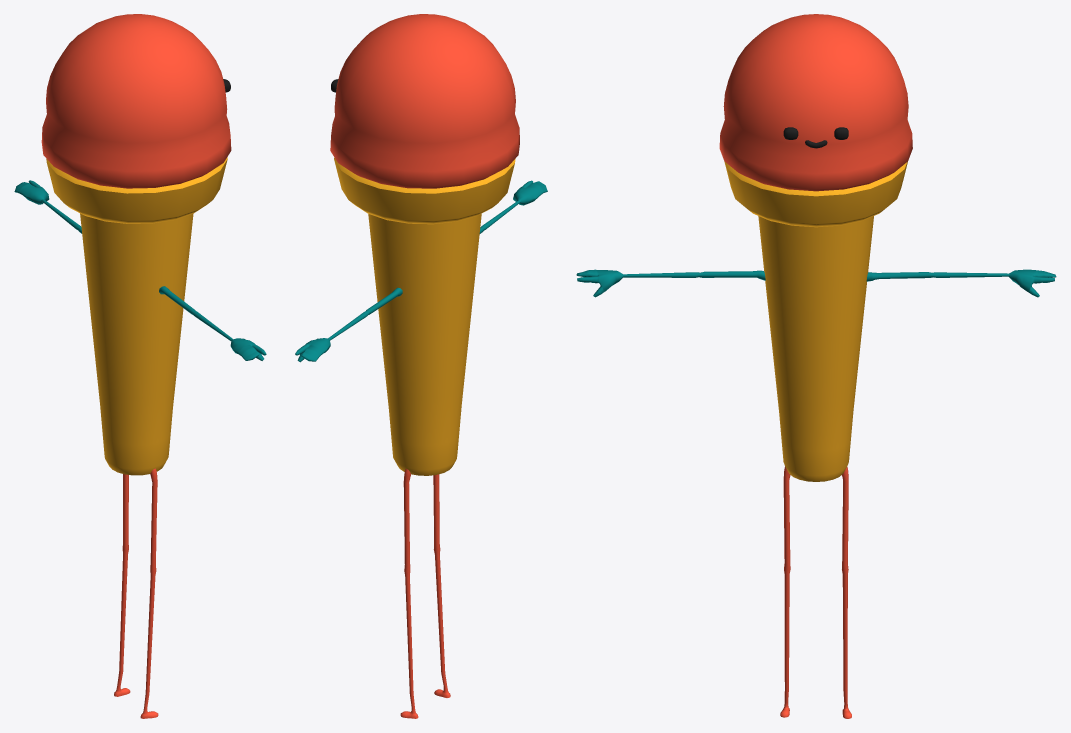
The model's file is scene_Eial6IPNKC.glb.
3 views of the same model, side by side, from view 1: azimuth 30°, elevation 25°; view 2: azimuth 150°, elevation 25°; view 3: azimuth 270°, elevation 25° (orthographic).
Visible parts, largest first — view 1: mesh_char_094; view 2: mesh_char_094; view 3: mesh_char_094.
Part boxes in pixels (left/top/right/bottom): mesh_char_094: left=14, top=14, right=266, bottom=718; mesh_char_094: left=295, top=14, right=547, bottom=718; mesh_char_094: left=576, top=14, right=1056, bottom=718.
Size of the model in its own units: 1.42 by 5.62 by 3.53.
1 material, 1 textured.
